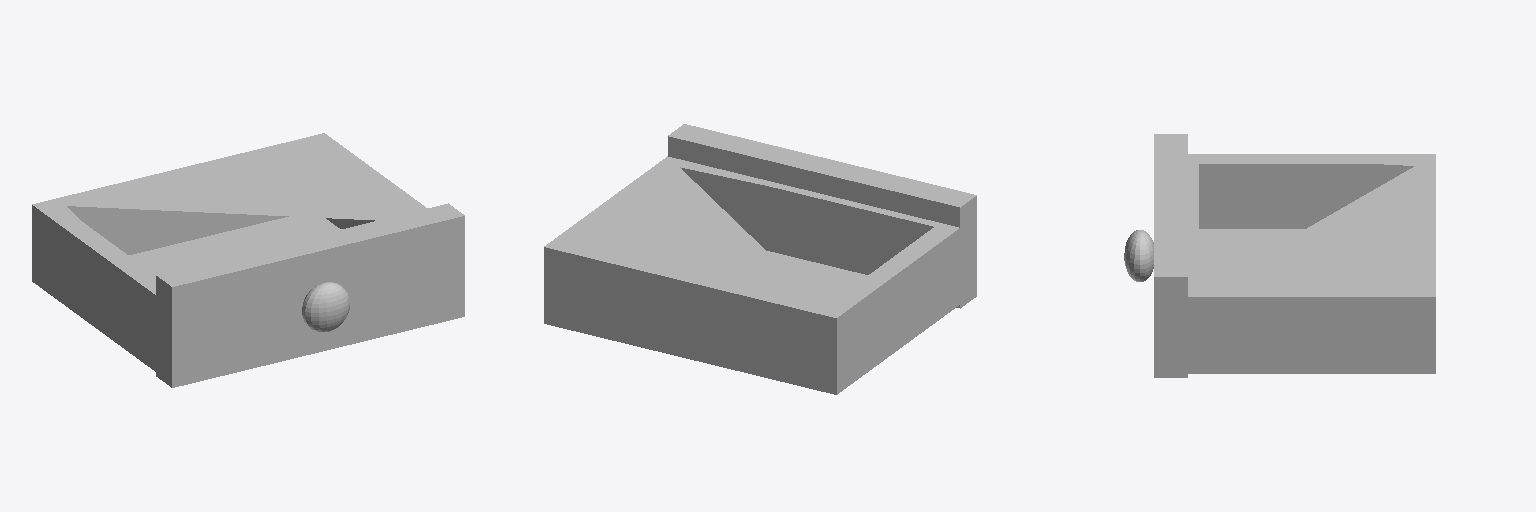
The model's file is CajonSUP.obj.
The picture shows the model from 3 angles: view 1: azimuth 30°, elevation 25°; view 2: azimuth 150°, elevation 25°; view 3: azimuth 270°, elevation 25°; orthographic projection.
Parts seen in each view (by area): view 1: Cajonera_Cajon_pCube18, Cajonera_Cajon_pCube17, pSphere9; view 2: Cajonera_Cajon_pCube18, Cajonera_Cajon_pCube17; view 3: Cajonera_Cajon_pCube18, Cajonera_Cajon_pCube17, pSphere9.
Boxes of the visible parts, x1=… form: Cajonera_Cajon_pCube18: x1=32, y1=133, x2=427, y2=371; Cajonera_Cajon_pCube17: x1=156, y1=203, x2=464, y2=387; pSphere9: x1=302, y1=282, x2=349, y2=331; Cajonera_Cajon_pCube18: x1=544, y1=156, x2=959, y2=394; Cajonera_Cajon_pCube17: x1=668, y1=124, x2=976, y2=308; Cajonera_Cajon_pCube18: x1=1187, y1=154, x2=1435, y2=373; Cajonera_Cajon_pCube17: x1=1154, y1=134, x2=1187, y2=377; pSphere9: x1=1124, y1=230, x2=1153, y2=281.
Bounding box in the file's own units: 0.7179 × 0.2366 × 0.661.